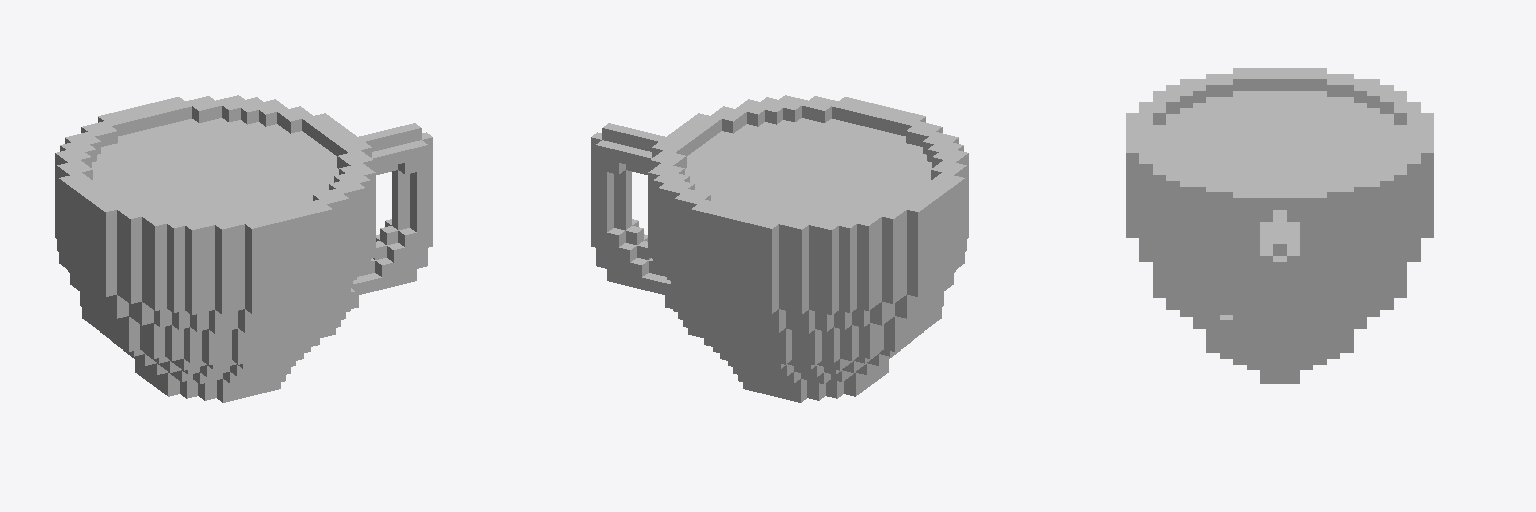
The model's file is Tea Cup.obj.
3 views of the same model, side by side, from view 1: azimuth 30°, elevation 25°; view 2: azimuth 150°, elevation 25°; view 3: azimuth 270°, elevation 25° (orthographic).
Parts seen in each view (by area): view 1: object 1; view 2: object 1; view 3: object 1.
Boxes of the visible parts, <box> form: object 1: <box>55,95,432,402</box>; object 1: <box>591,95,968,402</box>; object 1: <box>1126,68,1433,383</box>.
Size of the model in its own units: 3 by 1.7 by 2.3.